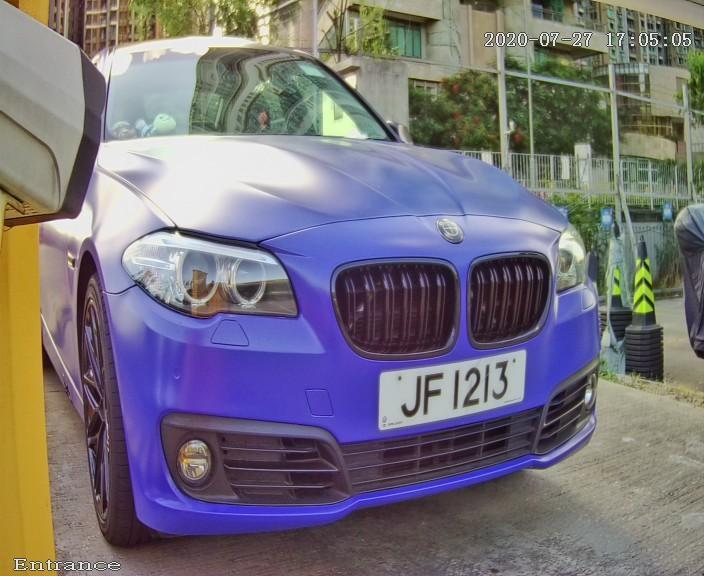privatecar: (38, 29, 632, 535)
